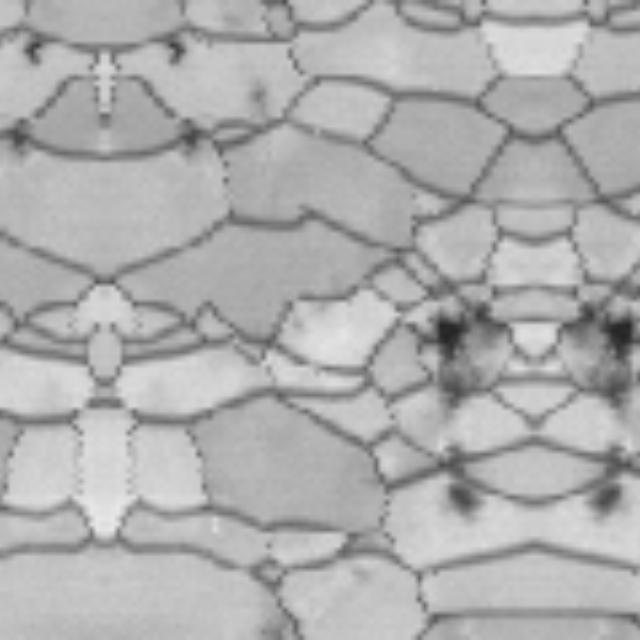good_void: (410, 280, 530, 411), (538, 280, 640, 411), (431, 434, 492, 529), (577, 434, 638, 529), (154, 32, 194, 73), (14, 32, 54, 73), (171, 119, 216, 154), (234, 77, 281, 110), (0, 119, 37, 154)
